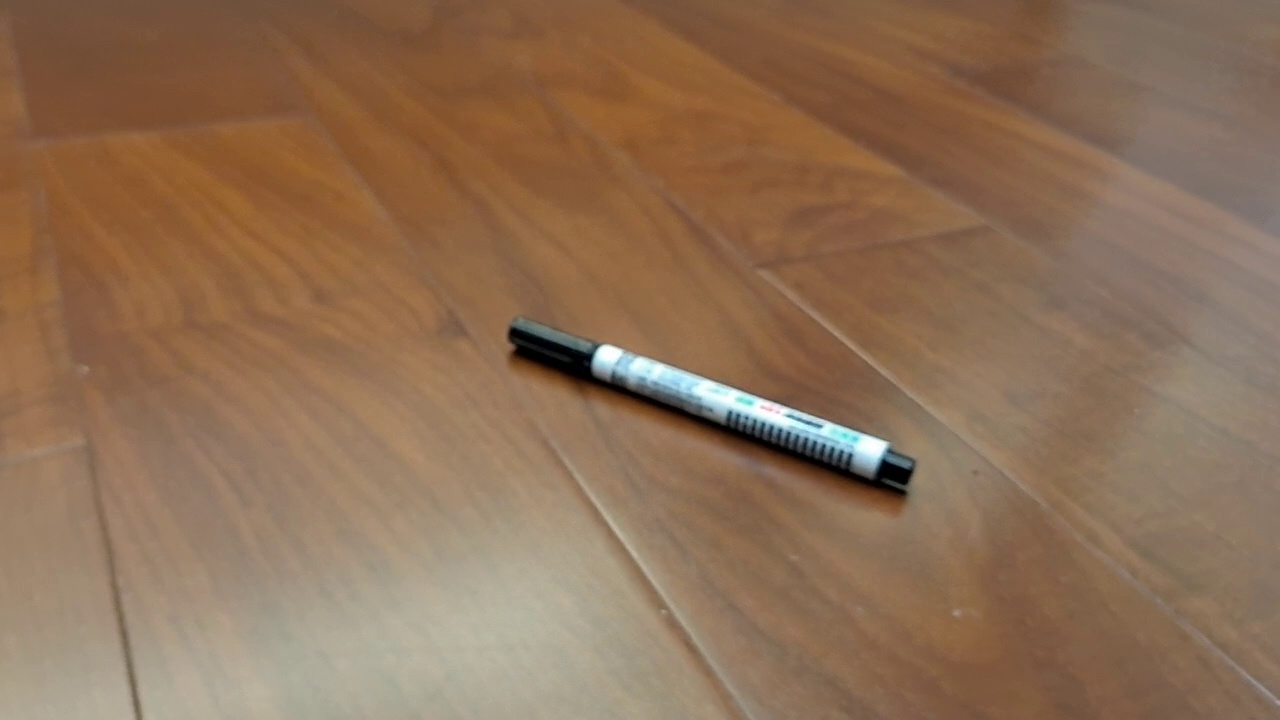pen: (506, 314, 917, 486)
